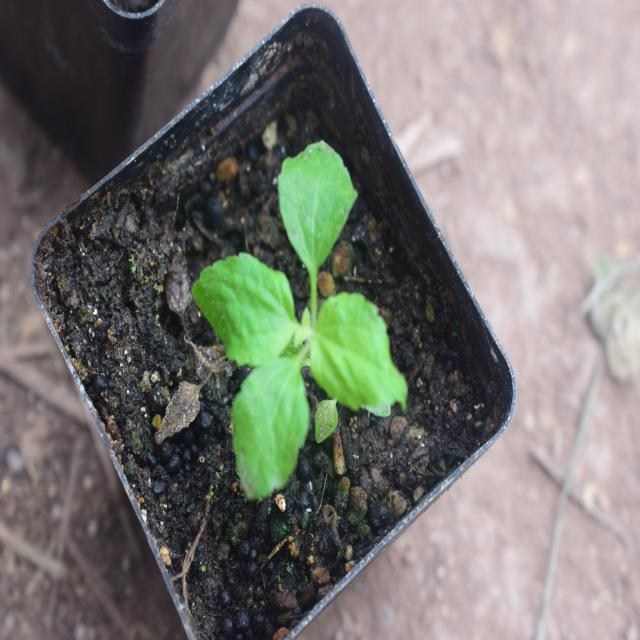billygoat_weed: (183, 132, 403, 502)
